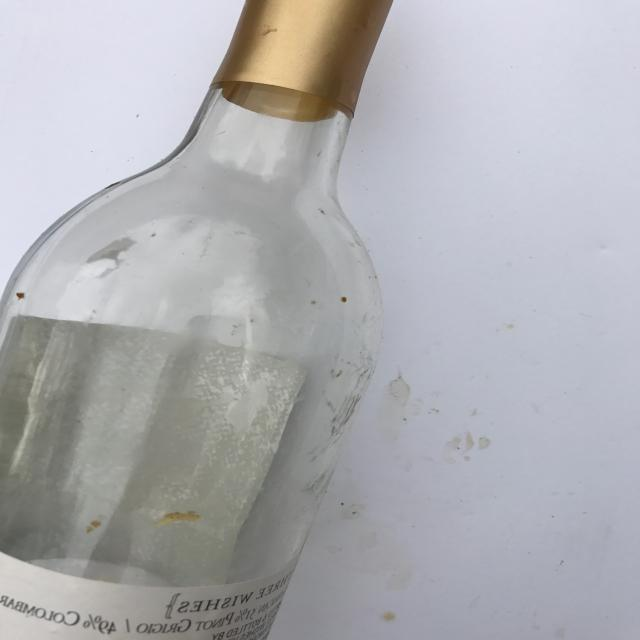glass: (0, 0, 398, 640)
